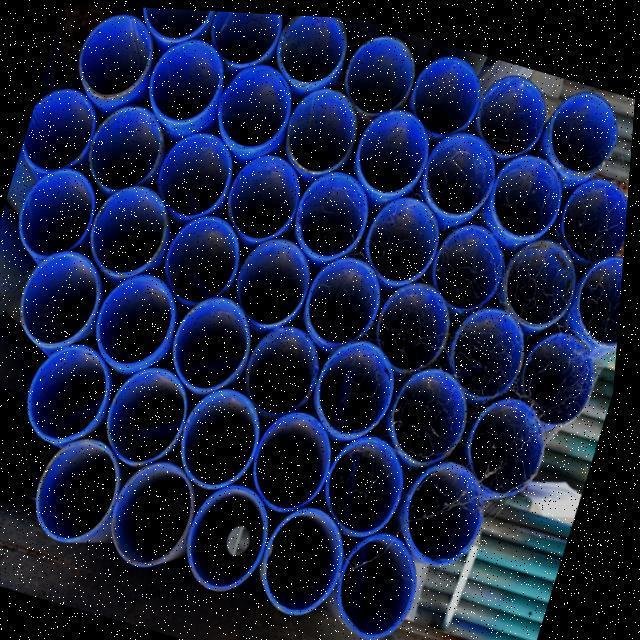pipe: (411, 454, 505, 554), (43, 434, 129, 539), (120, 456, 202, 563), (342, 528, 428, 630), (267, 502, 351, 606), (520, 324, 611, 417), (114, 362, 196, 464), (33, 342, 115, 443), (21, 164, 109, 257), (195, 481, 274, 584), (474, 392, 557, 490), (24, 247, 109, 342), (258, 409, 338, 509), (190, 383, 270, 483), (397, 360, 477, 460), (178, 293, 260, 389), (323, 333, 401, 431), (332, 434, 412, 529), (99, 272, 182, 363), (95, 184, 175, 277), (249, 324, 328, 414), (91, 101, 171, 189), (239, 234, 317, 323), (167, 213, 245, 302), (220, 58, 298, 147), (457, 303, 531, 396), (231, 149, 309, 237), (367, 189, 444, 278), (382, 276, 456, 368), (22, 86, 101, 172), (159, 133, 238, 217), (286, 84, 364, 169), (311, 254, 388, 340), (505, 236, 580, 324), (300, 170, 376, 256), (358, 102, 430, 190), (150, 39, 227, 121), (438, 218, 507, 307), (429, 127, 500, 211), (79, 11, 153, 91), (495, 148, 565, 232), (562, 173, 630, 259), (551, 87, 620, 169), (344, 31, 415, 109), (478, 73, 546, 154), (412, 52, 480, 133), (277, 12, 347, 81), (579, 247, 627, 339), (210, 9, 286, 61), (144, 6, 214, 38)
